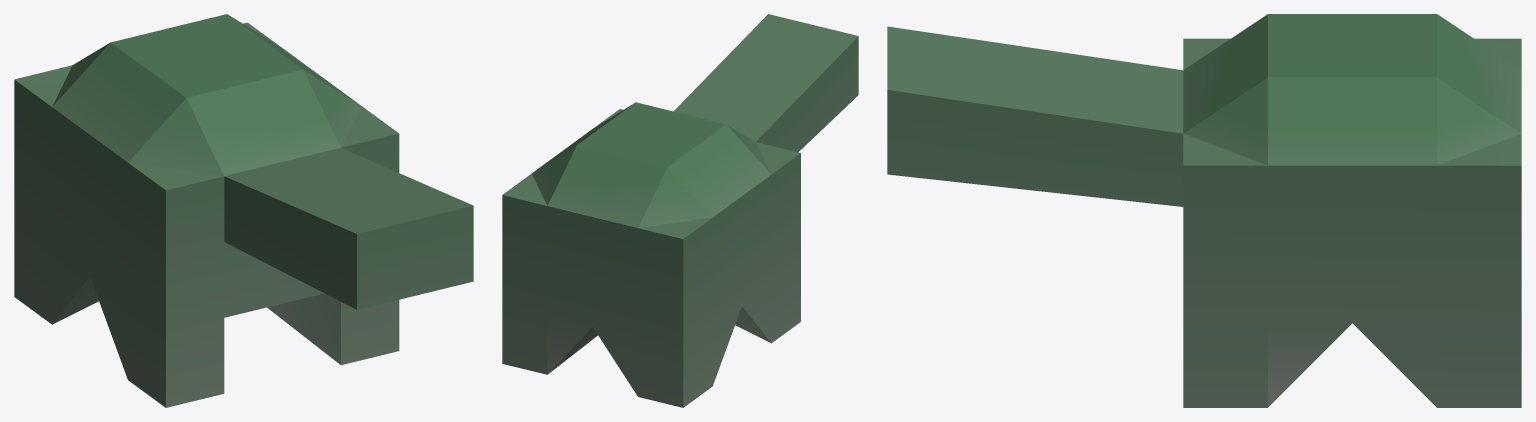
File: player.obj
The picture shows the model from 3 angles, left to right: view 1: azimuth 30°, elevation 25°; view 2: azimuth 150°, elevation 25°; view 3: azimuth 270°, elevation 25°; orthographic projection. The views are drawn at different scales.
Visible parts, largest first — view 1: 立方体; view 2: 立方体; view 3: 立方体.
Part boxes in pixels (x1,y1,x2,y2): 立方体: [14, 14, 473, 407]; 立方体: [502, 14, 858, 407]; 立方体: [887, 14, 1521, 407].
Bounding box in the file's own units: 1.61 × 1.77 × 3.4.
1 material, 1 textured.
